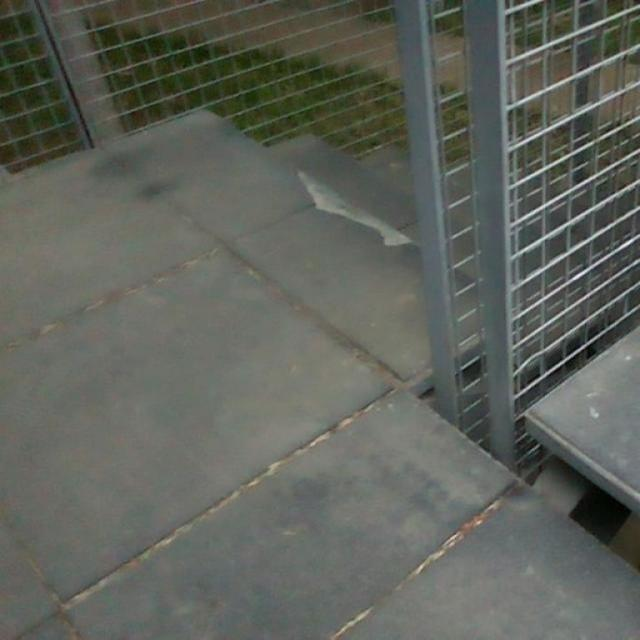stair: (270, 124, 438, 323), (553, 344, 640, 578)
